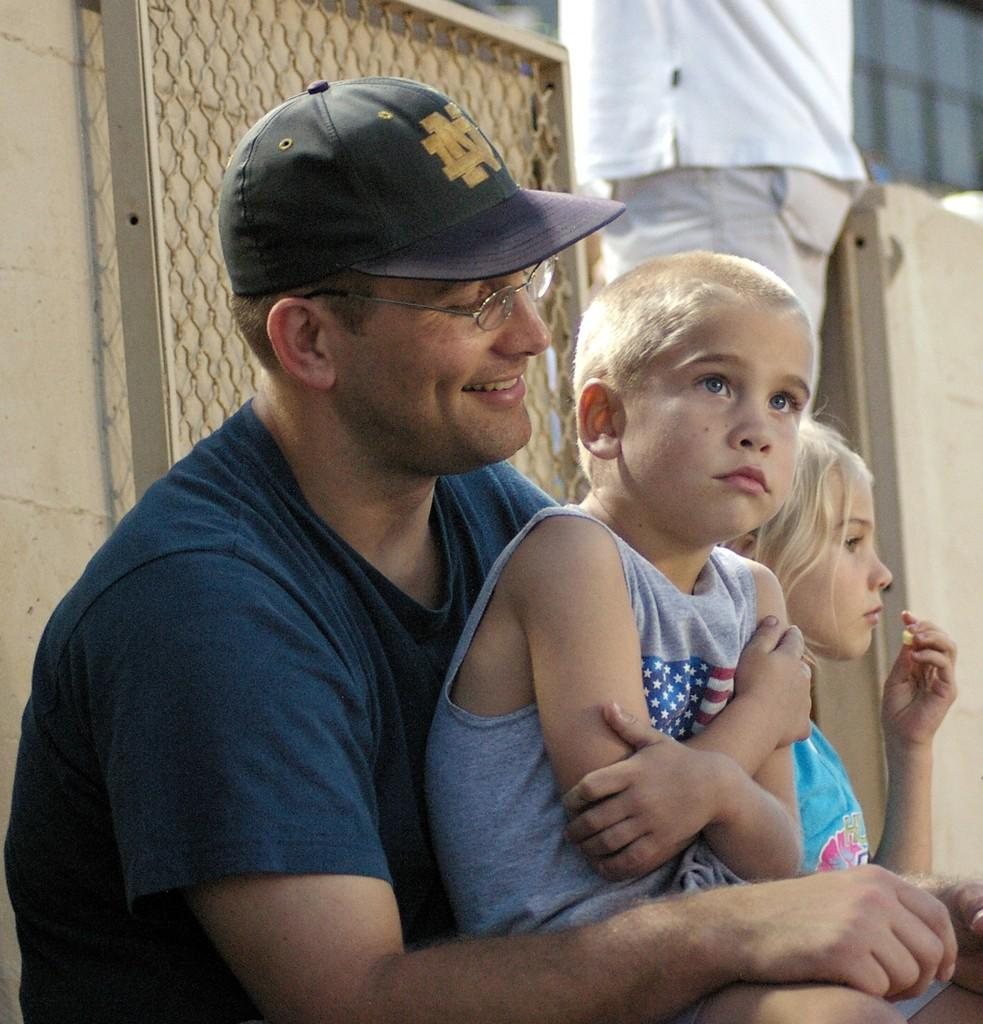Hat: (216, 77, 625, 294)
